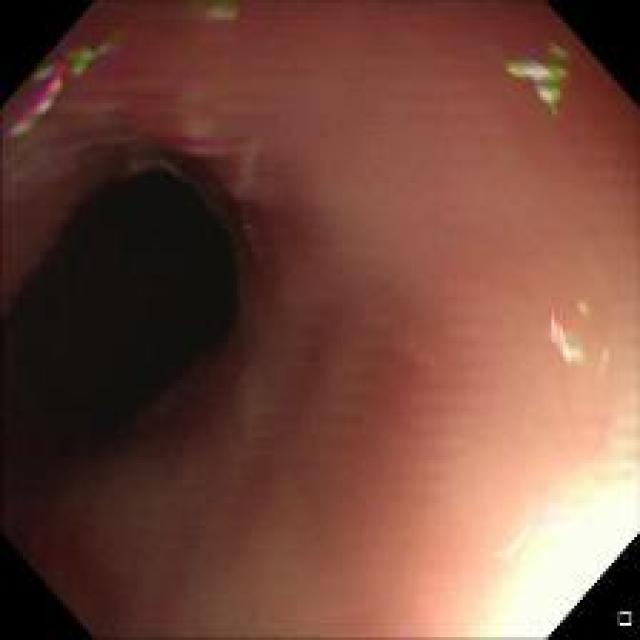color misalignment: (502, 39, 579, 122), (9, 59, 69, 136), (164, 112, 249, 155), (542, 304, 590, 369), (69, 30, 115, 76), (190, 1, 242, 29)
contrast: (0, 140, 294, 638)
saturation: (470, 439, 639, 639)
